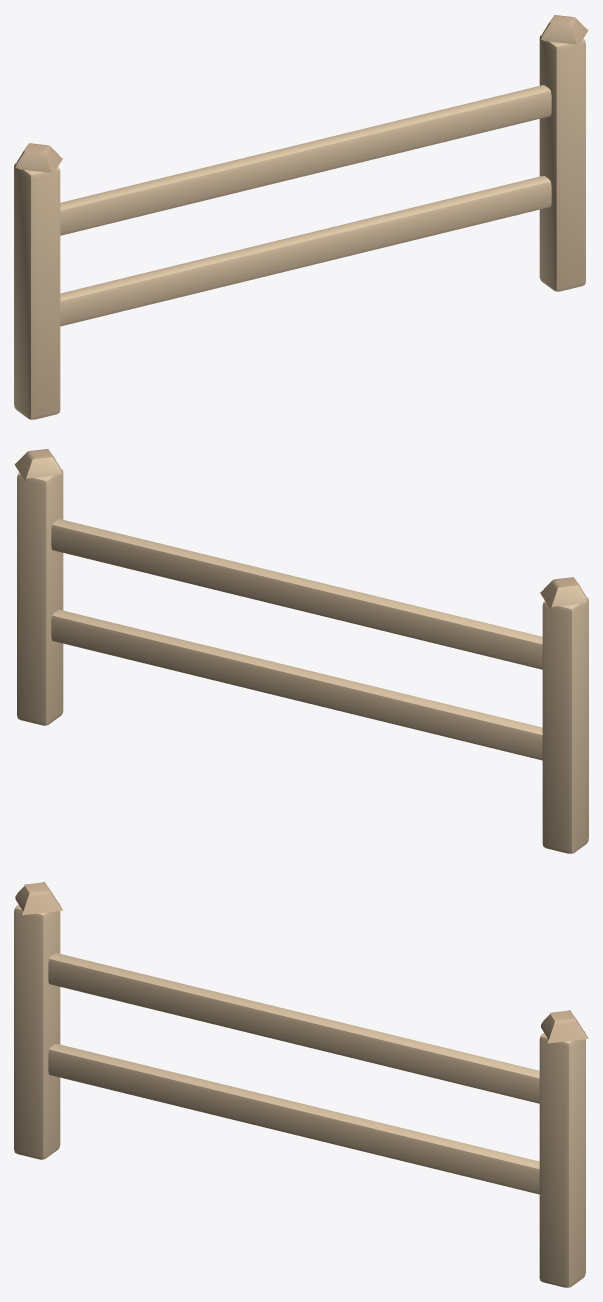
File: FenceSeg.fbx
3 views of the same model, one above another, from view 1: azimuth 30°, elevation 25°; view 2: azimuth 150°, elevation 25°; view 3: azimuth 330°, elevation 25° (orthographic).
Visible parts, largest first — view 1: FenceSeg; view 2: FenceSeg; view 3: FenceSeg.
Boxes of the visible parts, box(x1,y1,x2,y2) form: FenceSeg: box(14, 15, 588, 419); FenceSeg: box(14, 449, 588, 853); FenceSeg: box(14, 882, 588, 1287).
Size of the model in its own units: 2.18 by 0.96 by 0.2.
